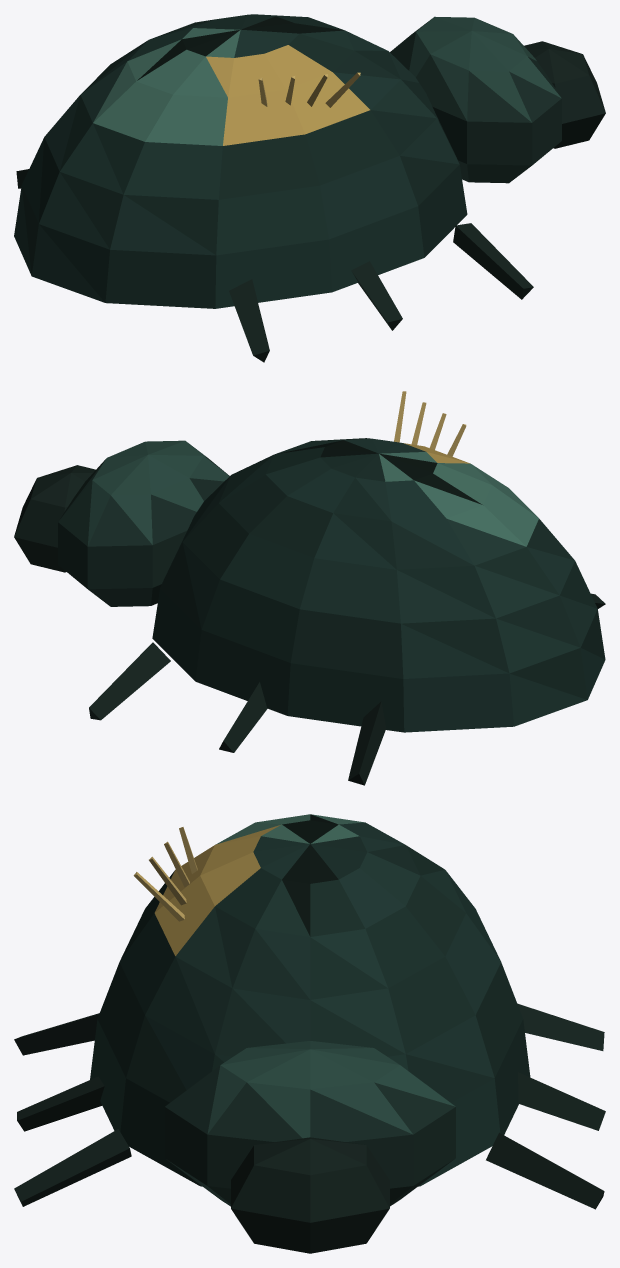
File: nest-husk.glb
3 views of the same model, one above another, from view 1: azimuth 30°, elevation 25°; view 2: azimuth 150°, elevation 25°; view 3: azimuth 270°, elevation 25° (orthographic). The views are drawn at different scales.
Bounding box in the file's own units: 2.57 × 0.9668 × 1.93.
